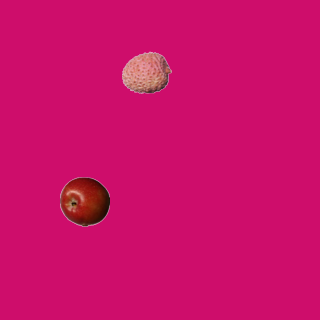Apple Braeburn: (59, 176, 109, 226)
Lychee: (121, 47, 171, 97)
